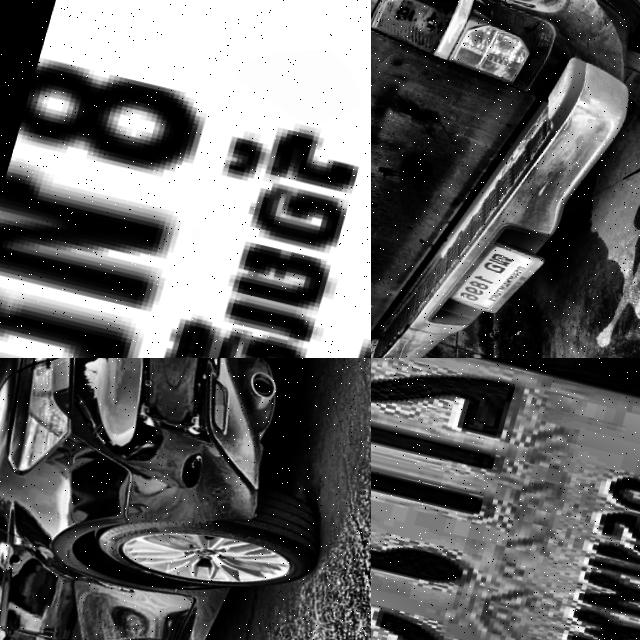license-plate: (0, 0, 371, 358), (371, 358, 640, 640), (445, 232, 551, 324)
